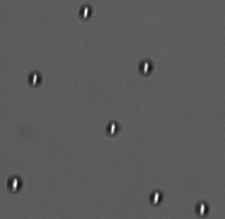Living Cell: (5, 172, 25, 194), (136, 58, 154, 77), (147, 188, 164, 206), (26, 68, 40, 88), (104, 119, 120, 136), (78, 3, 93, 21), (193, 200, 209, 216)
